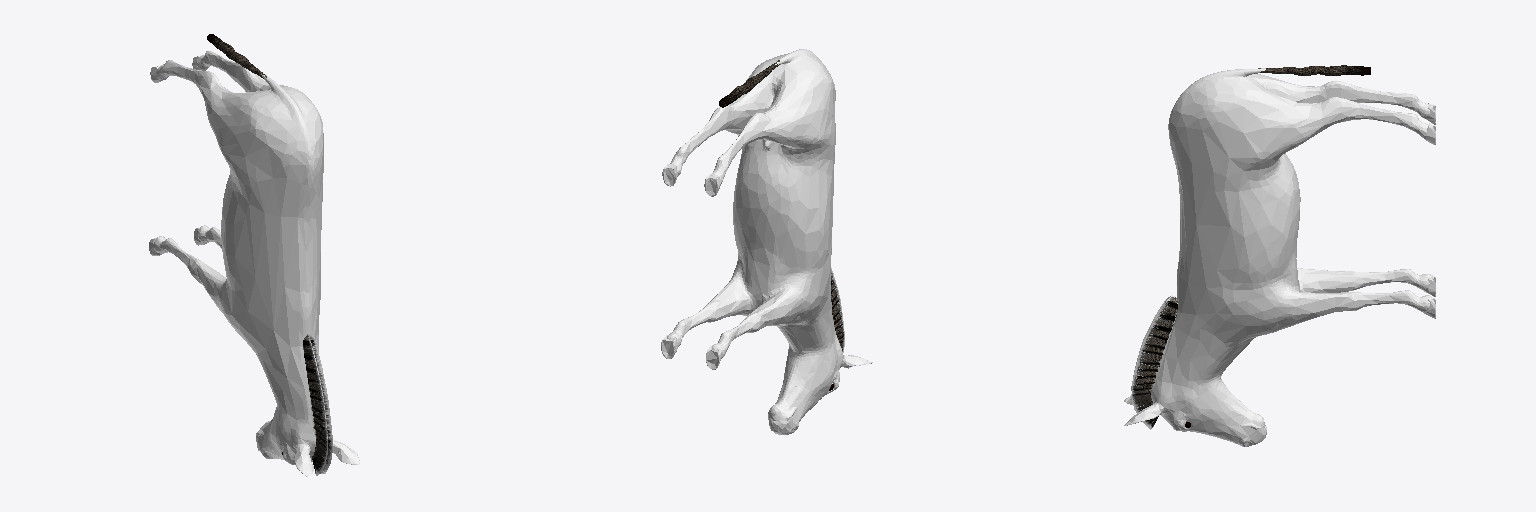
The picture shows the model from 3 angles: view 1: azimuth 30°, elevation 25°; view 2: azimuth 150°, elevation 25°; view 3: azimuth 270°, elevation 25°; orthographic projection.
Size of the model in its own units: 1527 by 6465 by 4806.
Materials: 4 (3 with a texture image).